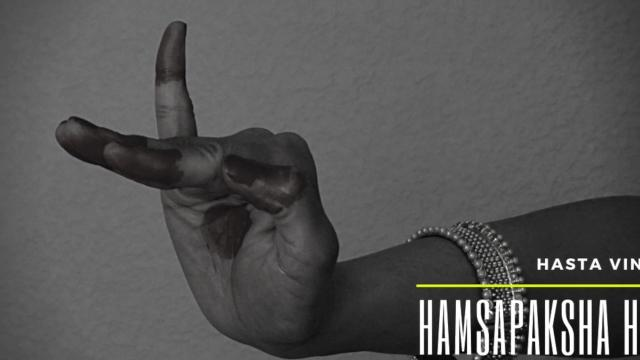Hamsapaksha: (68, 16, 374, 330)
